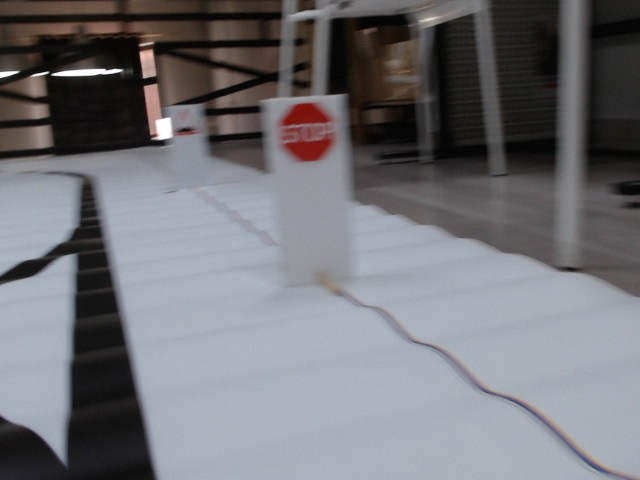Nerov: (174, 107, 204, 138)
Stop: (277, 102, 339, 161)
